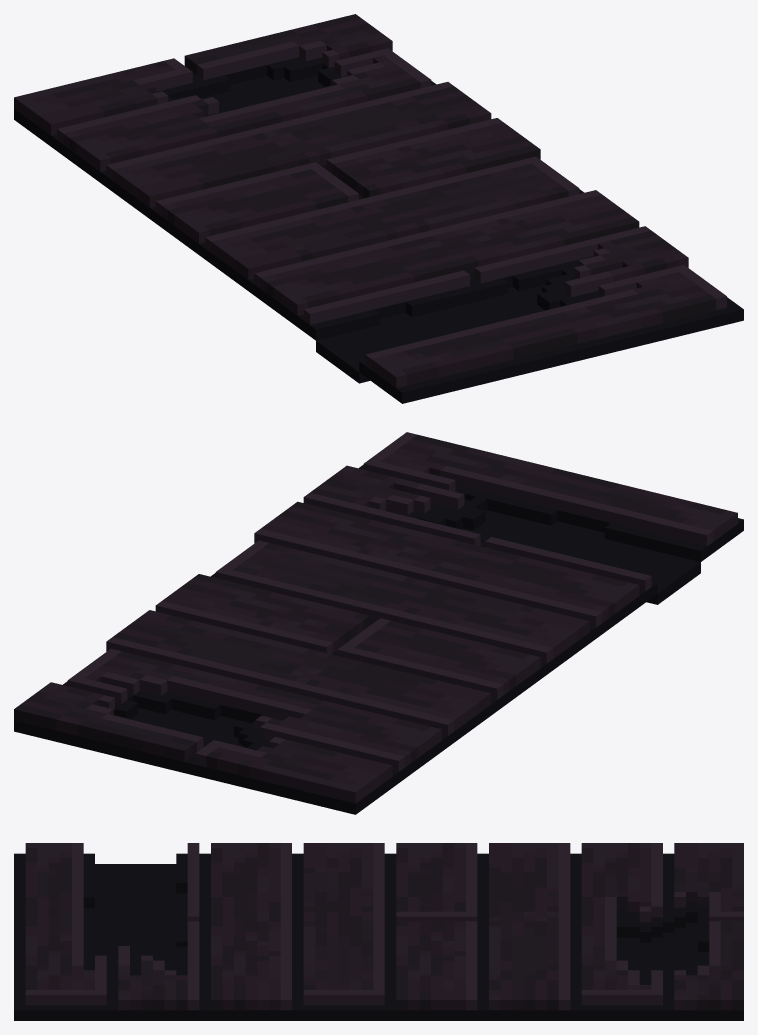
File: Floor-6.obj
The picture shows the model from 3 angles, top to bottom: view 1: azimuth 30°, elevation 25°; view 2: azimuth 150°, elevation 25°; view 3: azimuth 270°, elevation 25°; orthographic projection. The views are drawn at different scales.
Bounding box in the file's own units: 3.2 × 0.3 × 6.3.
Materials: 1 (1 with a texture image).
